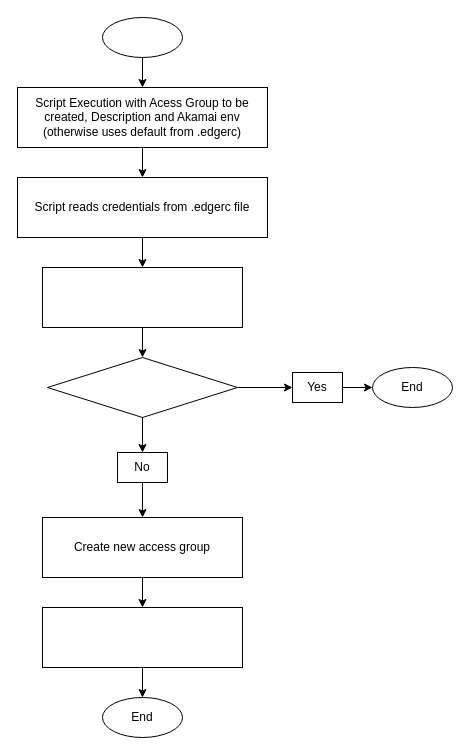
Some shapes in this 470 by 755 pixel diagram are drawn without their labels. The centre of each missing label's shape, as x and y in pixels:
API sends confirmation response: [142,637]
Does access group exist?: [142,387]
Script sends request to Akamai API: [142,297]
Start: [142,37]
